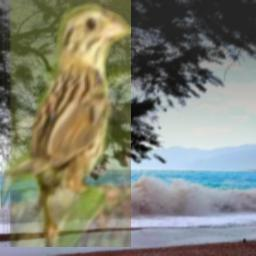Sparrow: (1, 0, 131, 247)
